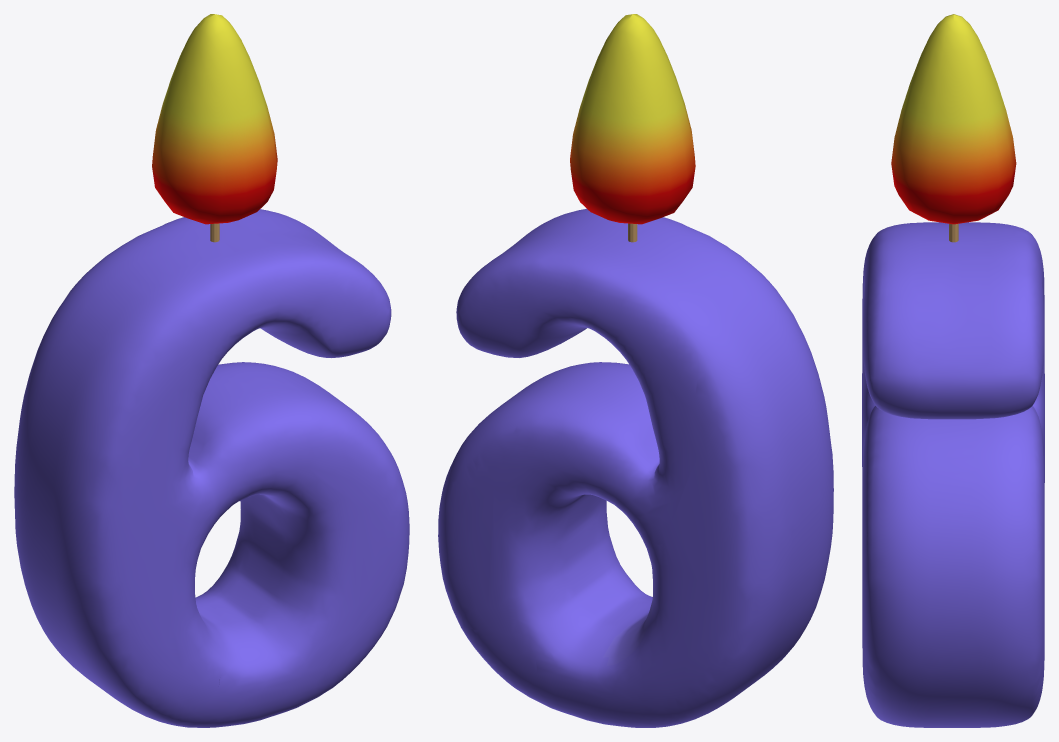
The model's file is candle_6.glb.
The picture shows the model from 3 angles, left to right: view 1: azimuth 30°, elevation 25°; view 2: azimuth 150°, elevation 25°; view 3: azimuth 270°, elevation 25°; orthographic projection.
Visible parts, largest first — view 1: candle_6, fire.006; view 2: candle_6, fire.006; view 3: candle_6, fire.006.
Boxes of the visible parts, <box> form: candle_6: <box>14,209,409,727</box>; fire.006: <box>152,14,277,224</box>; candle_6: <box>438,208,833,727</box>; fire.006: <box>570,14,695,224</box>; candle_6: <box>862,222,1044,727</box>; fire.006: <box>891,14,1016,224</box>.
Size of the model in its own units: 0.4965 by 0.9526 by 0.2294.
1 material, 1 textured.
